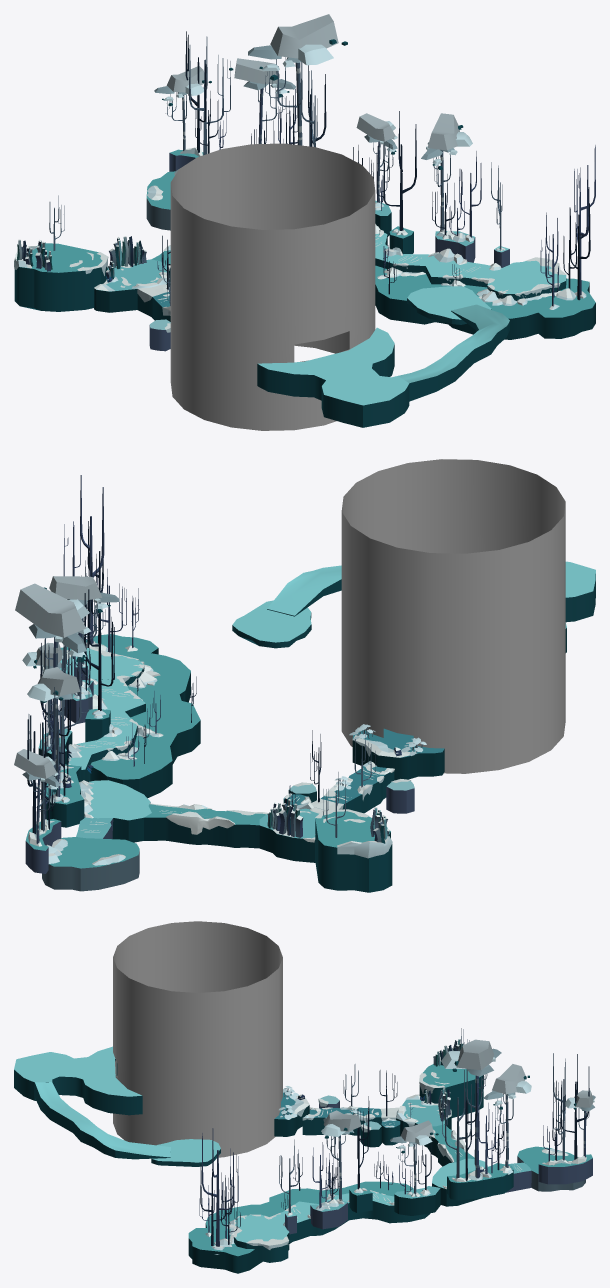
The model's file is Inverno_Tapa.fbx.
3 views of the same model, one above another, from view 1: azimuth 30°, elevation 25°; view 2: azimuth 150°, elevation 25°; view 3: azimuth 270°, elevation 25° (orthographic). The views are drawn at different scales.
Visible parts, largest first — view 1: polySurface710, polySurface738, polySurface760, polySurface638, polySurface620, polySurface12596, ArvoraMagrinha, polySurface684, polySurface669, ArvoraMagrinha3, ArvoraMagrinha1, ArvoraMagrinha2 (+12 smaller); view 2: polySurface710, polySurface760, polySurface638, polySurface620, polySurface650, ArvoraMagrinha, polySurface751, polySurface693, polySurface678, polySurface669, polySurface12596, polySurface684 (+20 smaller); view 3: polySurface710, polySurface738, polySurface760, polySurface620, polySurface12596, ArvoraMagrinha, polySurface638, polySurface633, polySurface669, ArvoraMagrinha1, polySurface718, polySurface650 (+18 smaller).
Part boxes in pixels (<box>): polySurface710: <box>170,143,375,430</box>; polySurface738: <box>257,327,409,427</box>; polySurface760: <box>375,265,595,339</box>; polySurface638: <box>14,243,107,311</box>; polySurface620: <box>375,232,566,300</box>; polySurface12596: <box>398,304,509,401</box>; ArvoraMagrinha: <box>248,14,347,145</box>; polySurface684: <box>94,259,169,312</box>; polySurface669: <box>407,286,491,324</box>; ArvoraMagrinha3: <box>421,113,472,231</box>; ArvoraMagrinha1: <box>229,58,295,143</box>; ArvoraMagrinha2: <box>356,113,397,202</box>; polySurface710: <box>341,459,565,773</box>; polySurface760: <box>61,634,200,798</box>; polySurface638: <box>315,811,392,892</box>; polySurface620: <box>43,648,145,781</box>; polySurface650: <box>42,837,139,891</box>; ArvoraMagrinha: <box>15,583,91,769</box>; polySurface751: <box>144,804,266,848</box>; polySurface693: <box>87,780,151,842</box>; polySurface678: <box>352,728,444,780</box>; polySurface669: <box>232,600,311,648</box>; polySurface12596: <box>267,565,341,616</box>; polySurface684: <box>259,808,318,862</box>; polySurface710: <box>113,921,282,1157</box>; polySurface738: <box>14,1046,142,1115</box>; polySurface760: <box>188,1181,413,1273</box>; polySurface620: <box>234,1191,430,1262</box>; polySurface12596: <box>35,1082,170,1159</box>; ArvoraMagrinha: <box>441,1039,501,1178</box>; polySurface638: <box>419,1061,483,1117</box>; polySurface633: <box>447,1163,513,1200</box>; polySurface669: <box>151,1139,220,1166</box>; ArvoraMagrinha1: <box>483,1064,531,1167</box>; polySurface718: <box>538,1154,592,1184</box>; polySurface650: <box>517,1146,585,1191</box>.
Size of the model in its own units: 29454 by 13887 by 40851.
